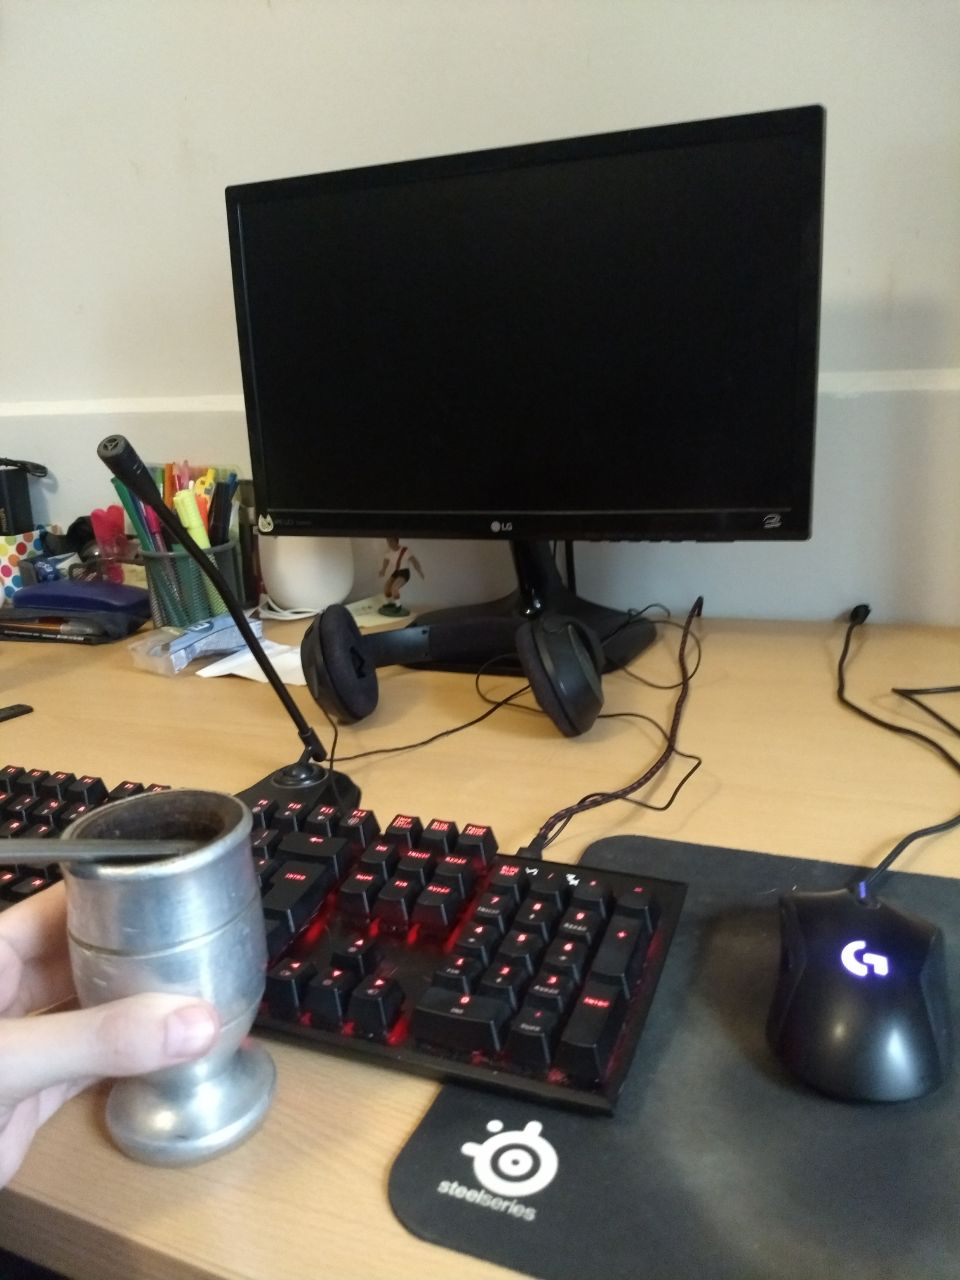mate: (1, 783, 283, 1173)
metal: (1, 781, 283, 1171)
